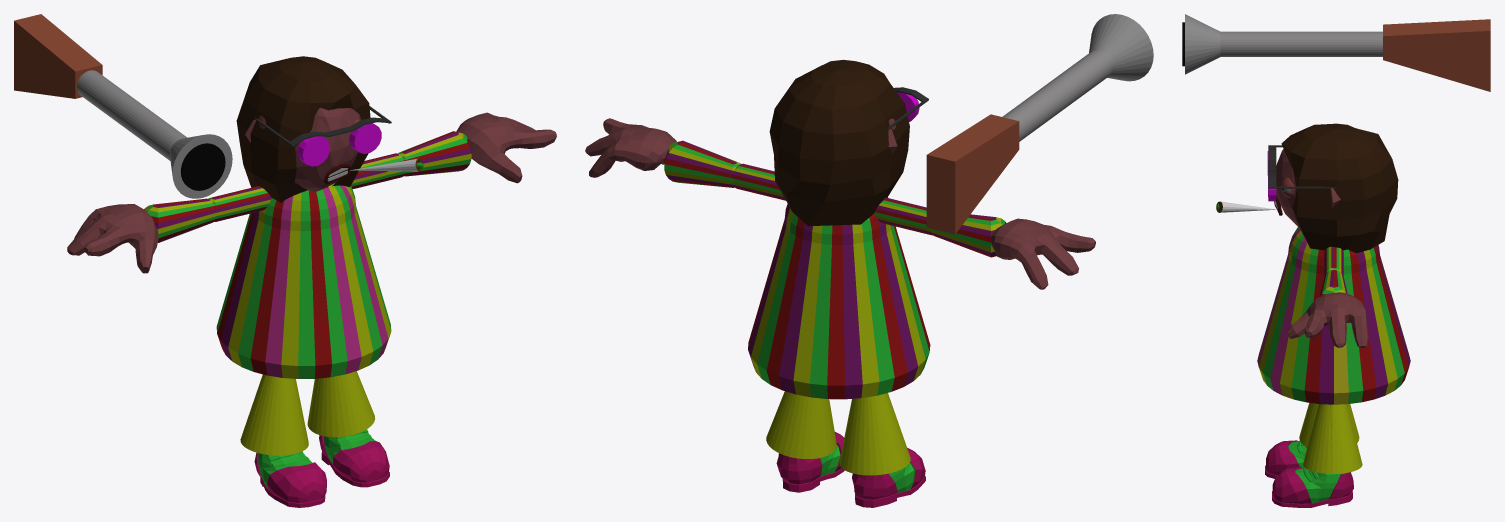
The model's file is hippy.obj.
3 renders of one model, left to right at view 1: azimuth 30°, elevation 25°; view 2: azimuth 150°, elevation 25°; view 3: azimuth 270°, elevation 25°, orthographic. The views are drawn at different scales.
Visible parts, largest first — view 1: Body, Head, Weapon, LeftLowerLeg, RightLowerLeg, LeftLowerArm, RightLowerArm, LeftUpperArm, RightUpperArm; view 2: Body, Head, Weapon, LeftLowerLeg, RightLowerArm, RightLowerLeg, LeftLowerArm, LeftUpperArm, RightUpperArm; view 3: Body, Head, Weapon, RightLowerLeg, RightLowerArm, LeftLowerLeg, RightUpperArm.
Part boxes in pixels (bbox=[...]): Body: bbox=[216, 183, 391, 378]; Head: bbox=[236, 56, 423, 202]; Weapon: bbox=[14, 14, 232, 198]; LeftLowerLeg: bbox=[240, 374, 326, 507]; RightLowerLeg: bbox=[307, 371, 389, 487]; LeftLowerArm: bbox=[67, 198, 215, 273]; RightLowerArm: bbox=[398, 112, 556, 183]; LeftUpperArm: bbox=[208, 186, 271, 221]; RightUpperArm: bbox=[351, 153, 405, 188]; Body: bbox=[748, 197, 930, 399]; Head: bbox=[769, 59, 928, 226]; Weapon: bbox=[926, 14, 1153, 234]; LeftLowerLeg: bbox=[839, 393, 925, 507]; RightLowerArm: bbox=[585, 118, 740, 187]; RightLowerLeg: bbox=[766, 391, 844, 492]; LeftLowerArm: bbox=[929, 214, 1095, 289]; LeftUpperArm: bbox=[874, 197, 932, 235]; RightUpperArm: bbox=[733, 163, 785, 200]; Body: bbox=[1257, 227, 1410, 404]; Head: bbox=[1216, 123, 1398, 253]; Weapon: bbox=[1182, 14, 1490, 91]; RightLowerLeg: bbox=[1272, 404, 1362, 507]; RightLowerArm: bbox=[1286, 270, 1368, 348]; LeftLowerLeg: bbox=[1265, 403, 1359, 478]; RightUpperArm: bbox=[1324, 246, 1343, 276].
Bounding box in the file's own units: 6.22 × 5.58 × 4.02.
